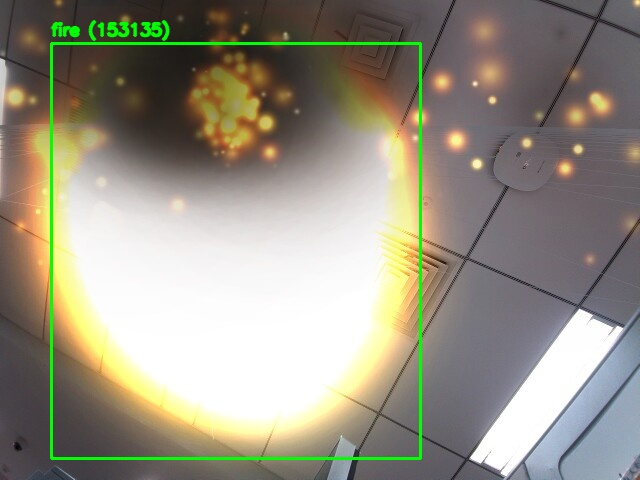fire: (51, 43, 420, 458)
